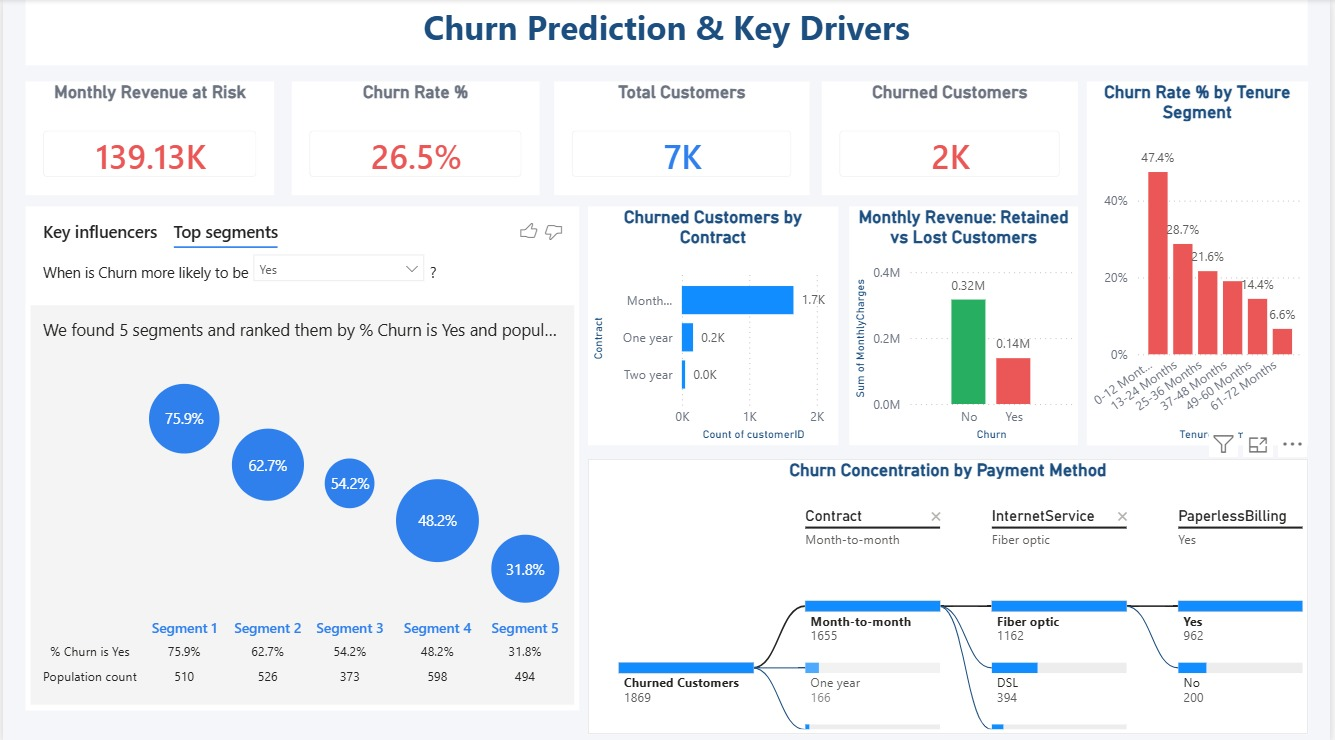

The dashboard page shown, as its layout file describes it:
{"tool":"powerbi","page":{"name":"Churn Prediction & Key Drivers","canvas":[1280,720],"ordinal":3},"visuals":[{"type":"textbox","box":[21.7,0,1237.8,63.9],"z":0},{"type":"cardVisual","title":"Monthly Revenue at Risk","fields":{"Data":["Customers.Revenue at Risk"]},"box":[22,79.3,240.2,109.8],"z":1000},{"type":"cardVisual","title":"Churn Rate %","fields":{"Data":["Customers.Churn Rate %"]},"box":[279.3,79.3,239,109.8],"z":2000},{"type":"cardVisual","title":"Total Customers","fields":{"Data":["Customers.Total Customers"]},"box":[531.7,79.3,246.3,109.8],"z":3000},{"type":"cardVisual","title":"Churned Customers","fields":{"Data":["Customers.Churned Customers"]},"box":[790.2,79.6,247.3,109.8],"z":4000},{"type":"keyDriversVisual","fields":{"Target":["Customers.Churn"],"ExplainBy":["Customers.Contract","Customers.tenure","Customers.InternetService","Customers.MonthlyCharges","Customers.PaymentMethod","Customers.PaperlessBilling","Customers.TechSupport","Customers.OnlineBackup","Customers.OnlineSecurity","Customers.DeviceProtection","Customers.SeniorCitizen","Customers.Partner"]},"box":[21.7,200.3,534.5,486.2],"z":5000},{"type":"clusteredColumnChart","fields":{"Y":["Customers.Churn Rate %"],"Category":["Customers.Tenure Segment"]},"box":[1046,79.6,213.5,351.1],"z":6000},{"type":"clusteredColumnChart","title":"Monthly Revenue: Retained vs Lost Customers","fields":{"Category":["Customers.Churn"],"Y":["Sum(Customers.MonthlyCharges)"]},"box":[816.8,200.3,220.8,230.4],"z":7000},{"type":"decompositionTreeVisual","title":"Churn Concentration by Payment Method","fields":{"Analyze":["Customers.Churned Customers"],"ExplainBy":["Customers.Contract","Customers.InternetService","Customers.PaperlessBilling","Customers.PaymentMethod","Customers.Tenure Segment","Customers.SeniorCitizen"]},"box":[564.6,444,694.9,265.4],"z":8000},{"type":"clusteredBarChart","title":"Churned Customers by Contract","fields":{"Category":["Customers.Contract"],"Y":["CountNonNull(Customers.customerID)"]},"box":[564.6,200.3,241.3,230.4],"z":9000}]}

Visuals, with their boxes in screenshot pixels (x1, y1, x2, y2), scaled from the page's 1280x720 canvas onto the 1335x740 screenshot:
textbox: 23:0:1314:66
"Monthly Revenue at Risk" cardVisual: 23:82:273:194
"Churn Rate %" cardVisual: 291:82:541:194
"Total Customers" cardVisual: 555:82:811:194
"Churned Customers" cardVisual: 824:82:1082:195
keyDriversVisual - Customers.Churn x Customers.Contract: 23:206:580:706
clusteredColumnChart - Customers.Churn Rate % x Customers.Tenure Segment: 1091:82:1314:443
"Monthly Revenue: Retained vs Lost Customers" clusteredColumnChart: 852:206:1082:443
"Churn Concentration by Payment Method" decompositionTreeVisual: 589:456:1314:729
"Churned Customers by Contract" clusteredBarChart: 589:206:841:443
